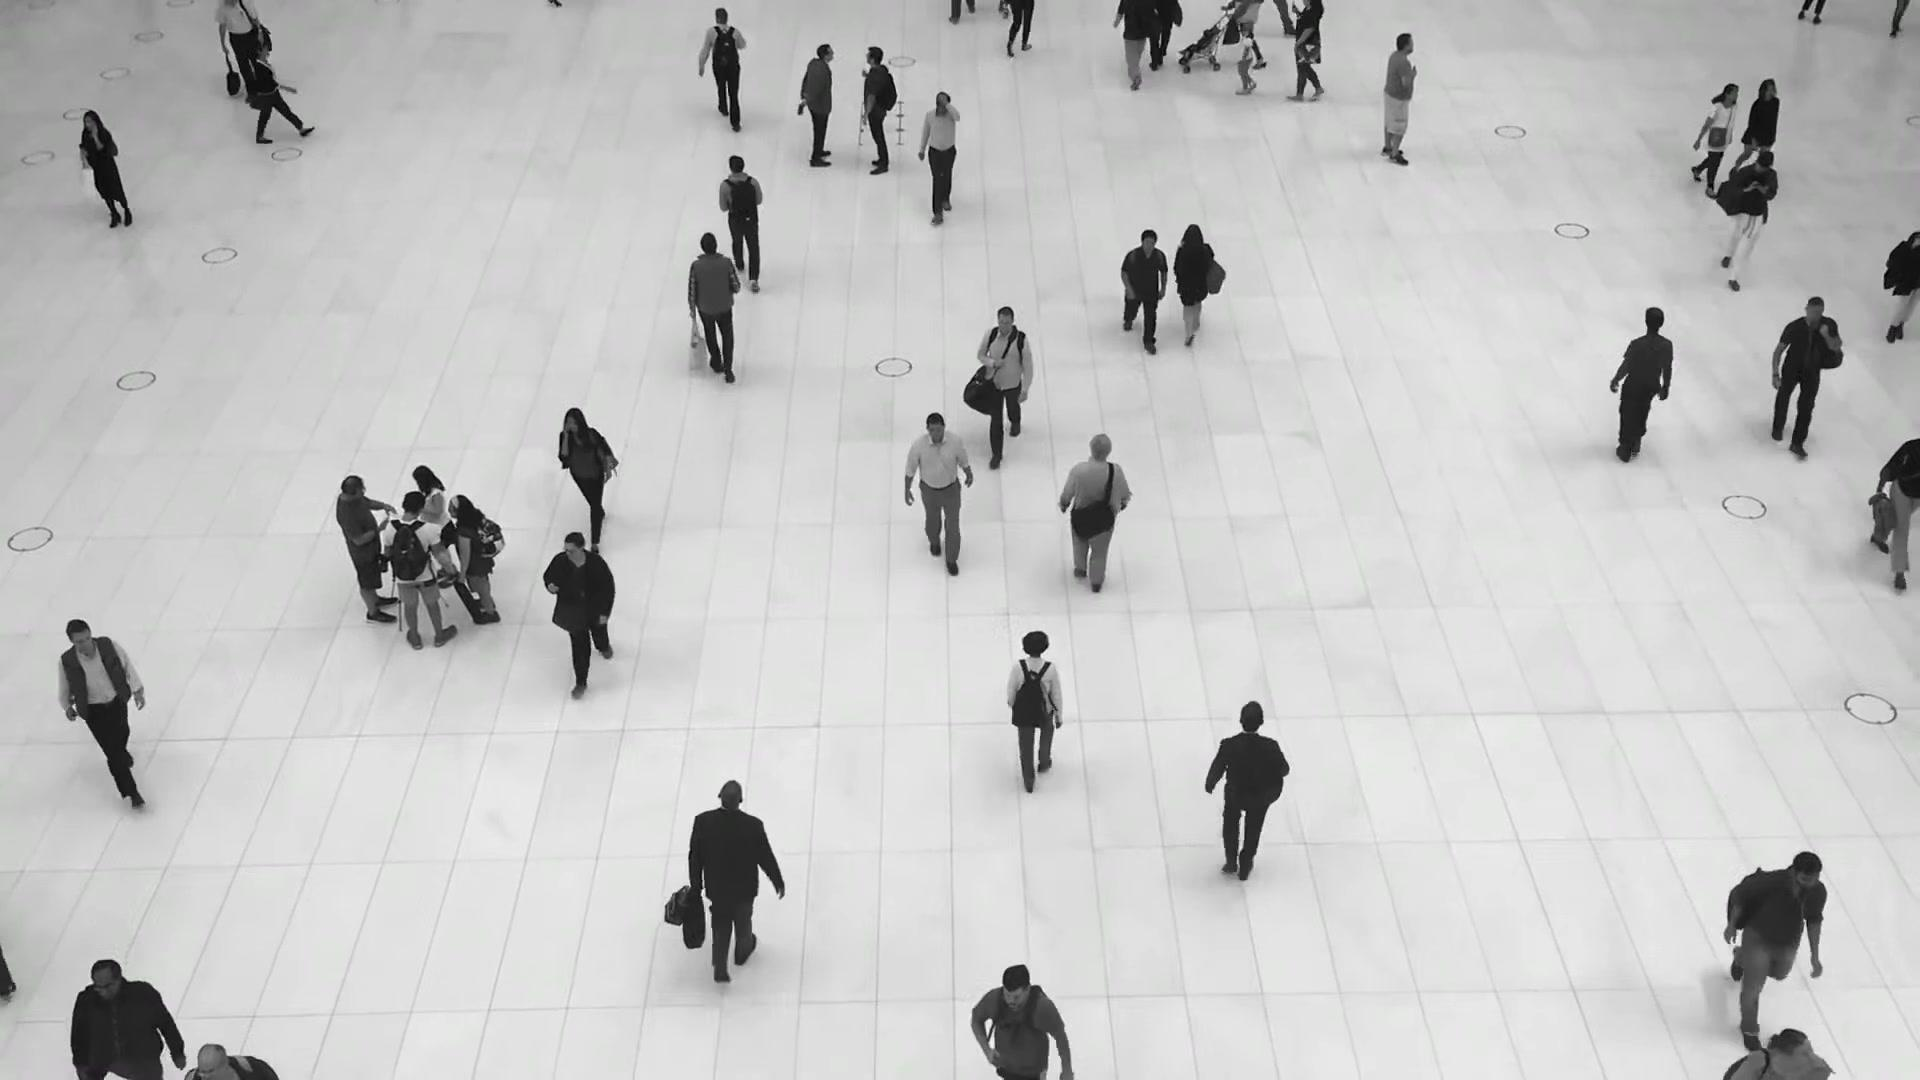person: (687, 785, 775, 1005), (1728, 852, 1833, 1031), (1205, 707, 1288, 907), (57, 616, 144, 796), (69, 958, 185, 1080), (1767, 299, 1843, 460), (1058, 436, 1129, 607), (382, 491, 458, 651), (542, 528, 619, 685), (971, 964, 1073, 1079), (1608, 308, 1675, 475), (906, 414, 974, 575), (1005, 632, 1065, 805), (335, 474, 400, 629), (977, 304, 1034, 463), (1715, 148, 1779, 289), (686, 233, 742, 388), (558, 405, 618, 544), (448, 494, 502, 625), (79, 109, 133, 229), (718, 151, 765, 286), (914, 91, 961, 222), (1118, 226, 1170, 345), (411, 465, 459, 590), (701, 6, 747, 125), (1695, 82, 1740, 197), (1172, 224, 1214, 345), (1381, 31, 1418, 166), (858, 46, 897, 175), (251, 40, 296, 143), (799, 42, 834, 168), (1285, 0, 1325, 104), (1741, 77, 1780, 165), (1228, 26, 1259, 97)
